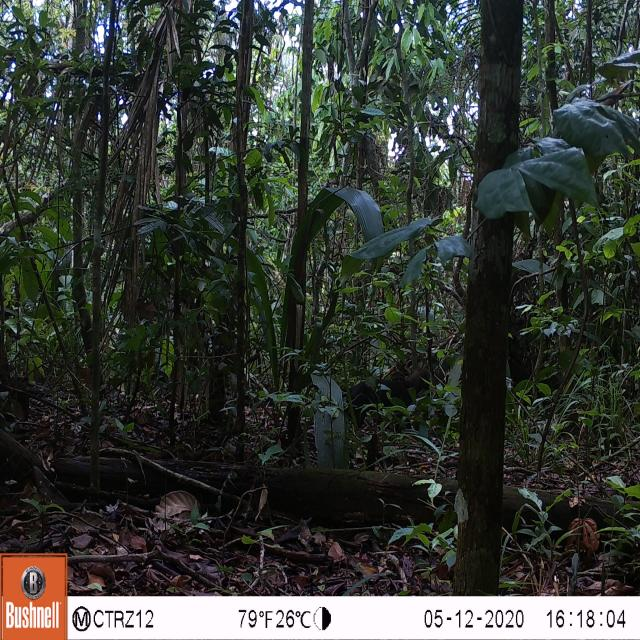Tayra: (320, 340, 448, 432)
